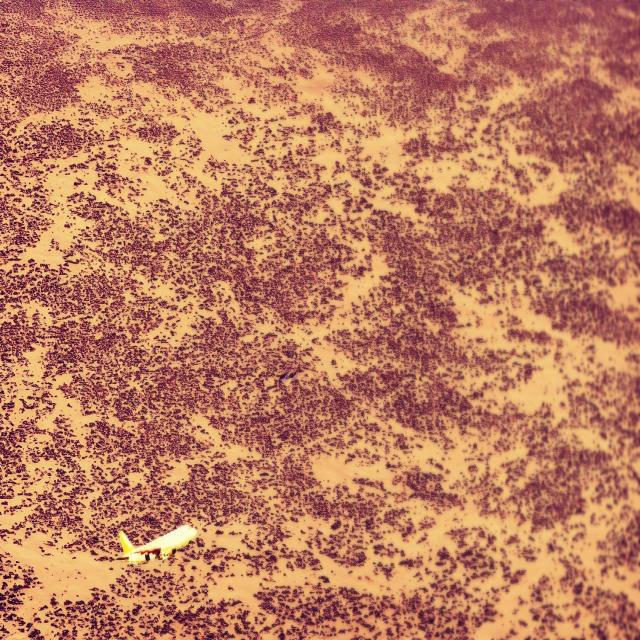airplane: (118, 522, 197, 564)
